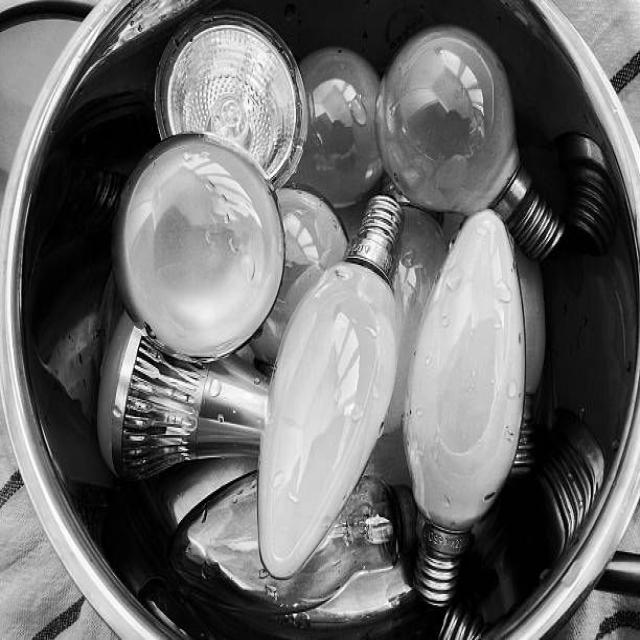electronic: (94, 12, 553, 596), (255, 192, 404, 578), (400, 206, 545, 533), (110, 130, 285, 362), (374, 22, 522, 214), (152, 8, 308, 190), (285, 44, 383, 208)
